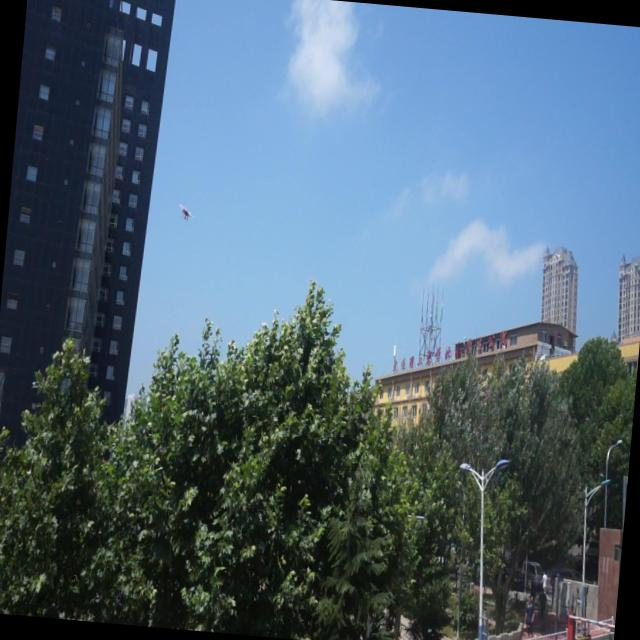drone: (174, 198, 197, 224)
